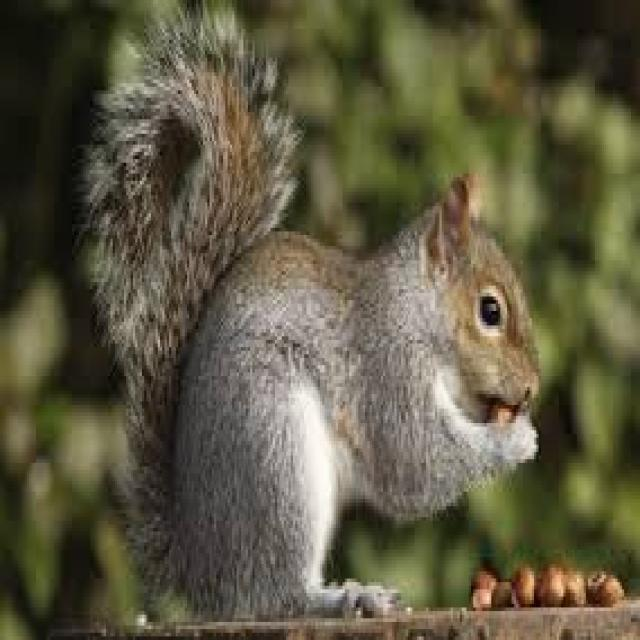Squirrel: (80, 24, 548, 629)
